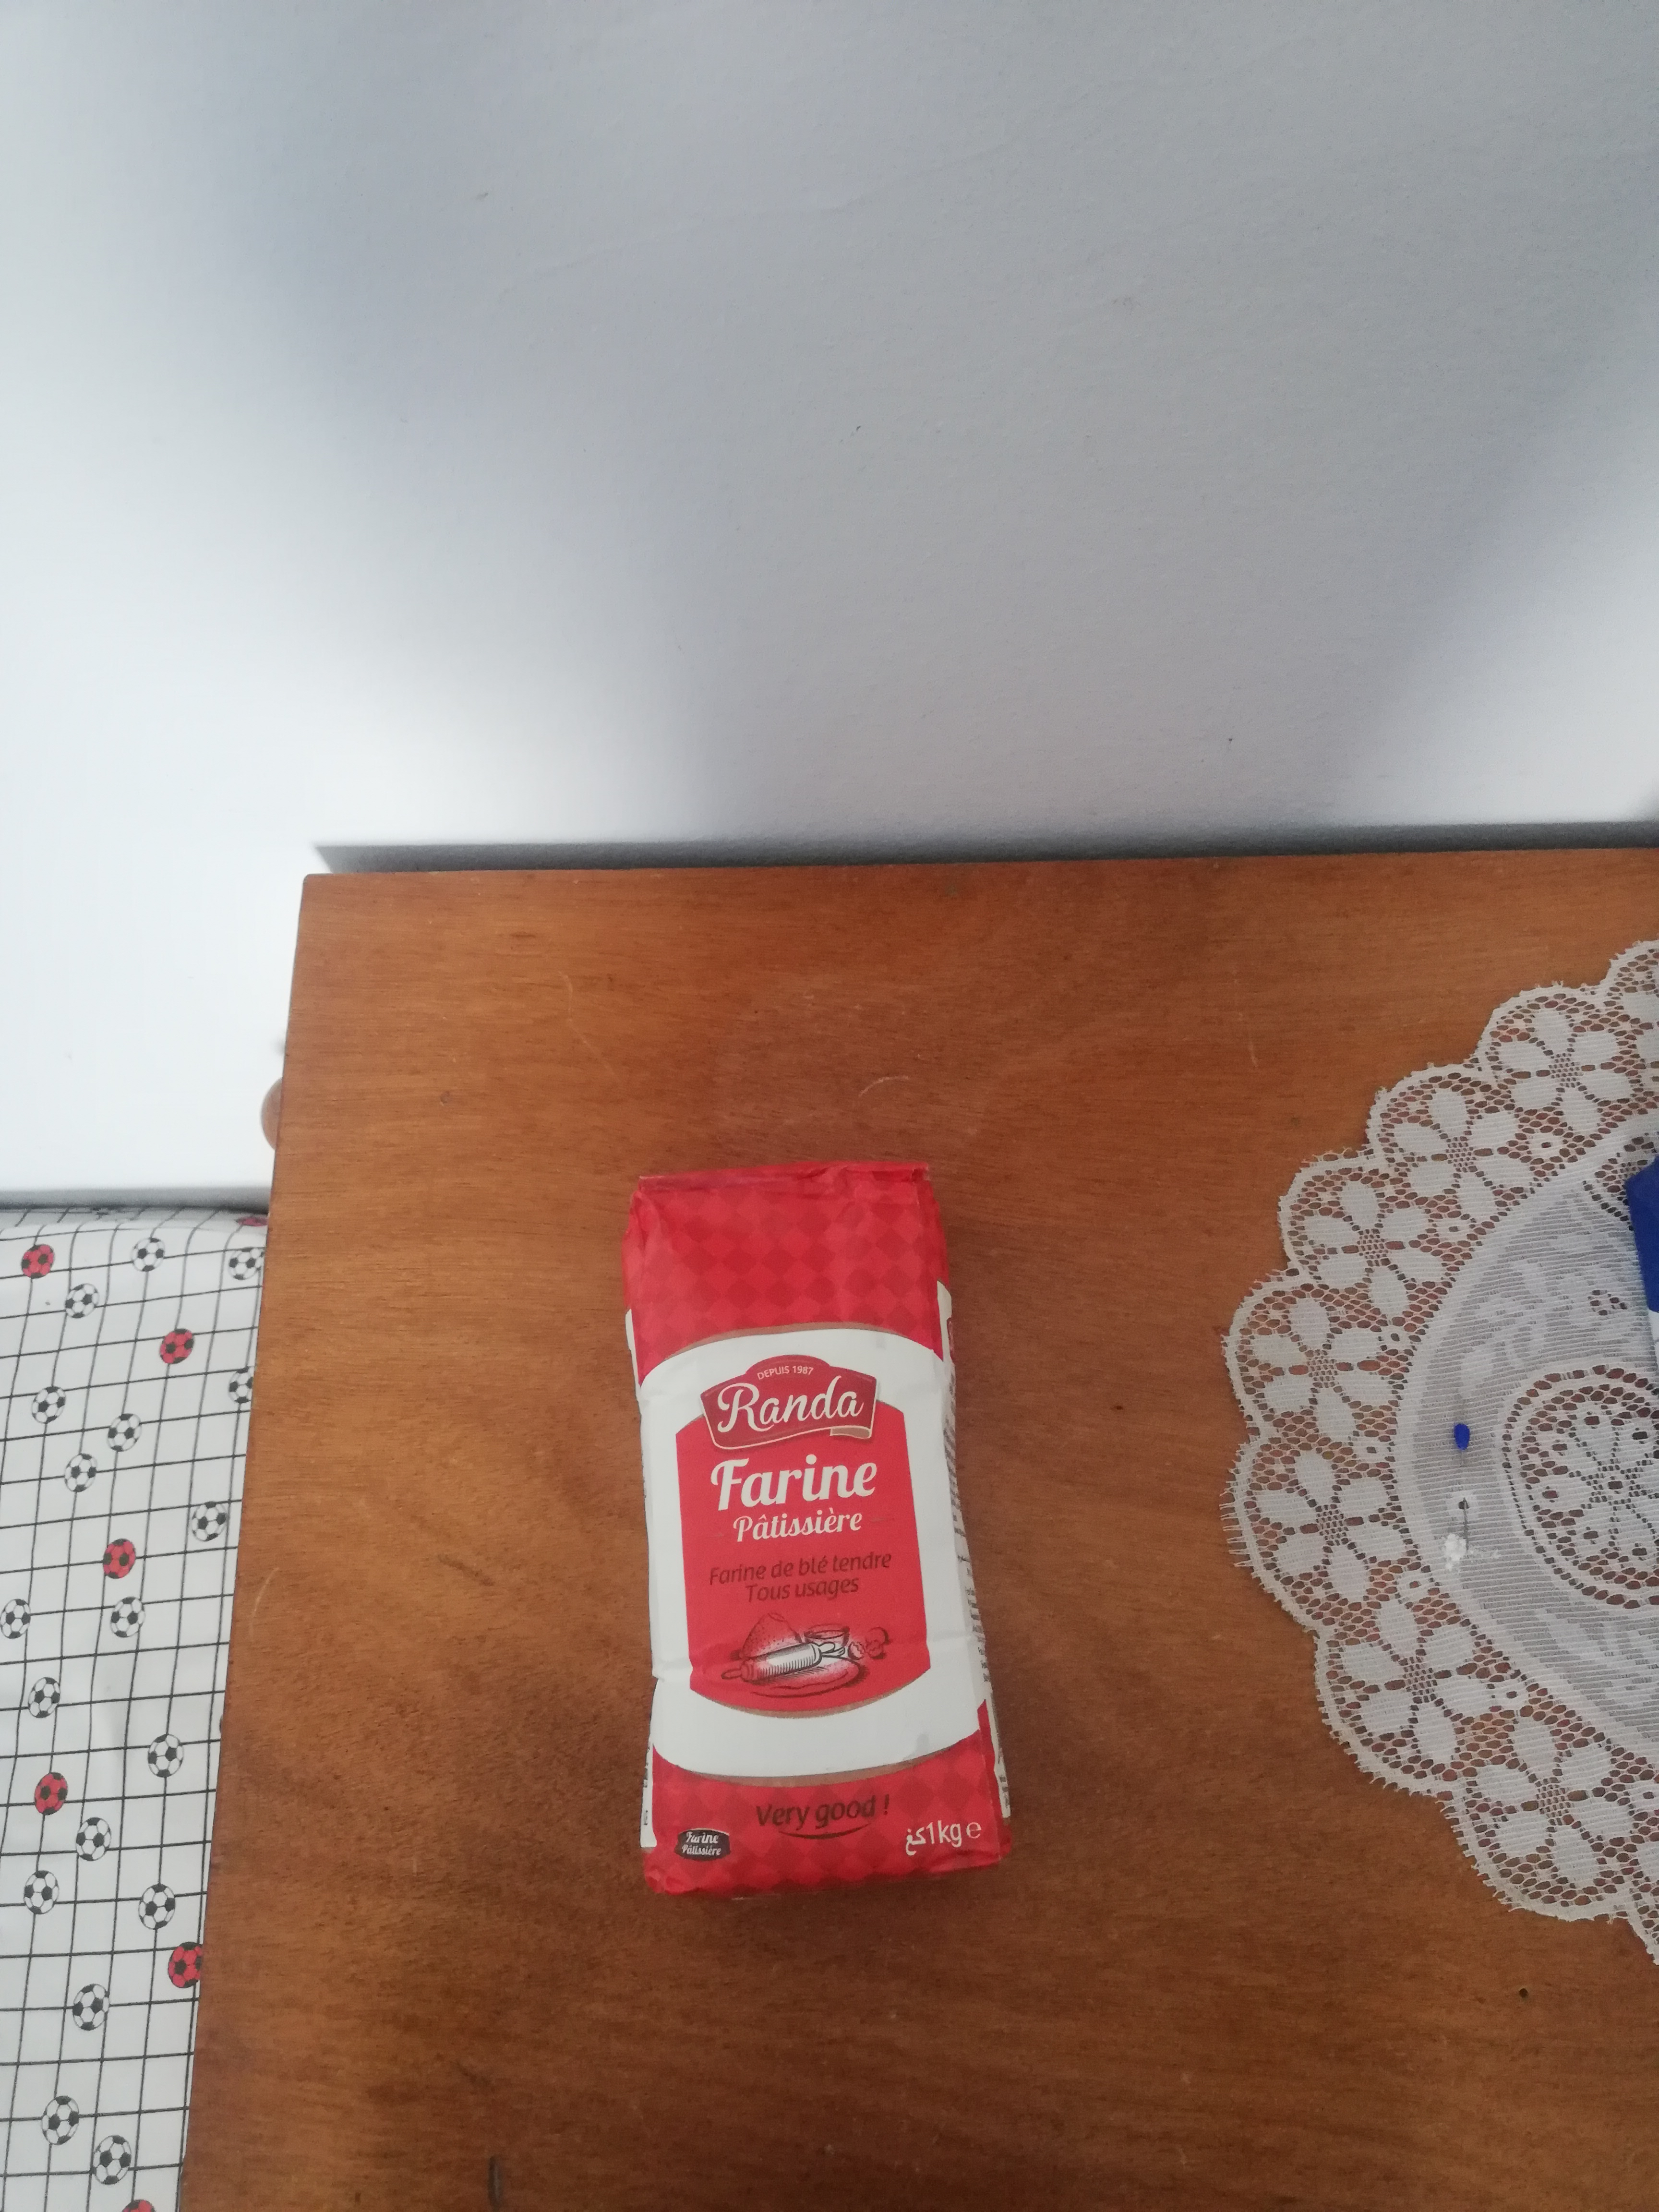Farine Randa: (610, 1163, 1021, 1897)
